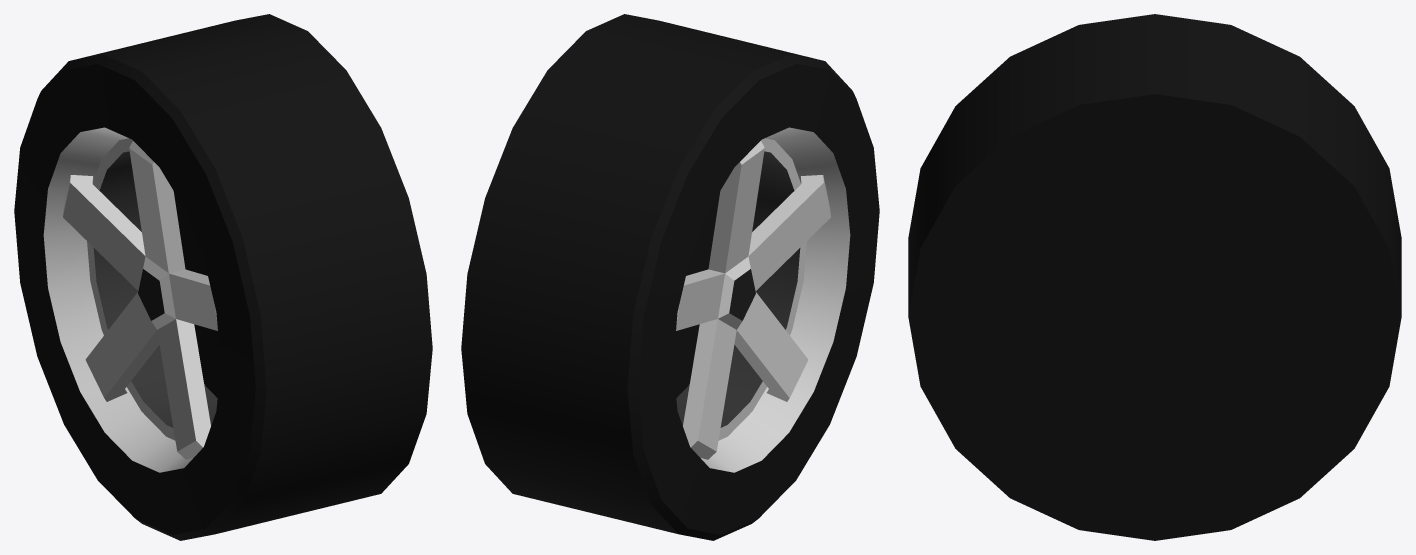
File: rally-wheel.glb
The picture shows the model from 3 angles, left to right: view 1: azimuth 30°, elevation 25°; view 2: azimuth 150°, elevation 25°; view 3: azimuth 270°, elevation 25°; orthographic projection.
Parts seen in each view (by area): view 1: model; view 2: model; view 3: model.
Part boxes in pixels (x1,y1,x2,y2): model: (14,14,432,540); model: (461,14,879,540); model: (908,14,1401,540).
Bounding box in the file's own units: 0.312 × 0.7669 × 0.7669.
1 material, 1 textured.
